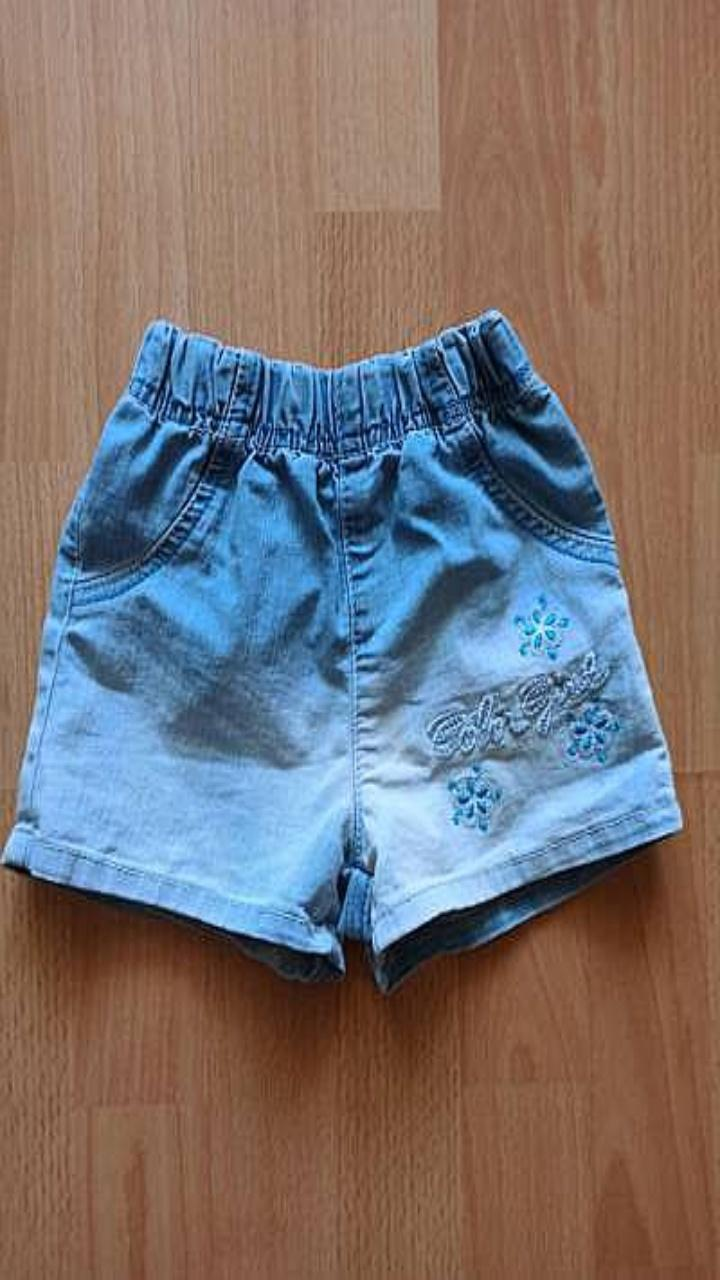Shorts: (2, 310, 682, 991)
